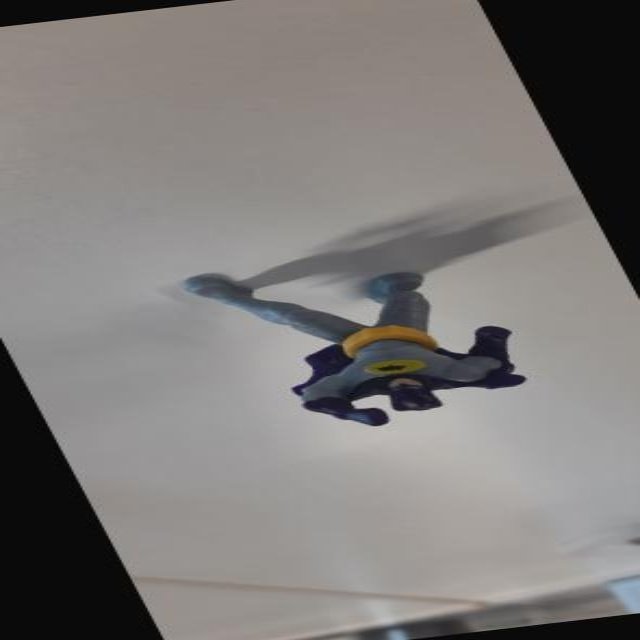Batman: (159, 236, 556, 444)
